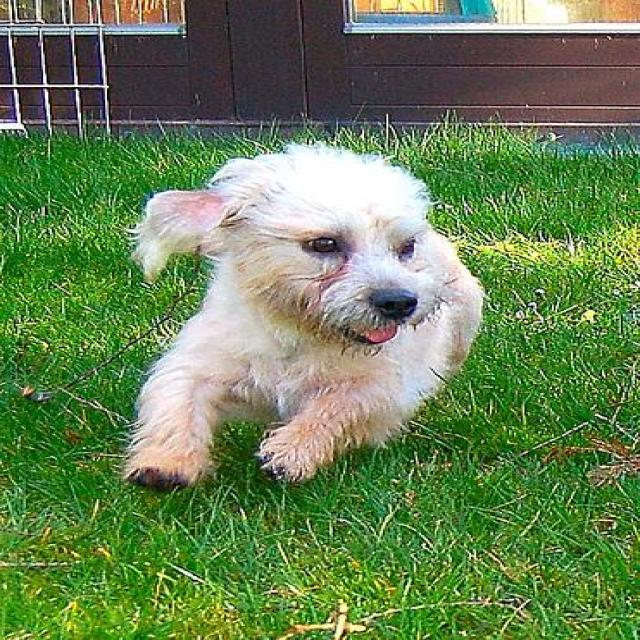dandie_dinmont: (112, 136, 487, 494)
